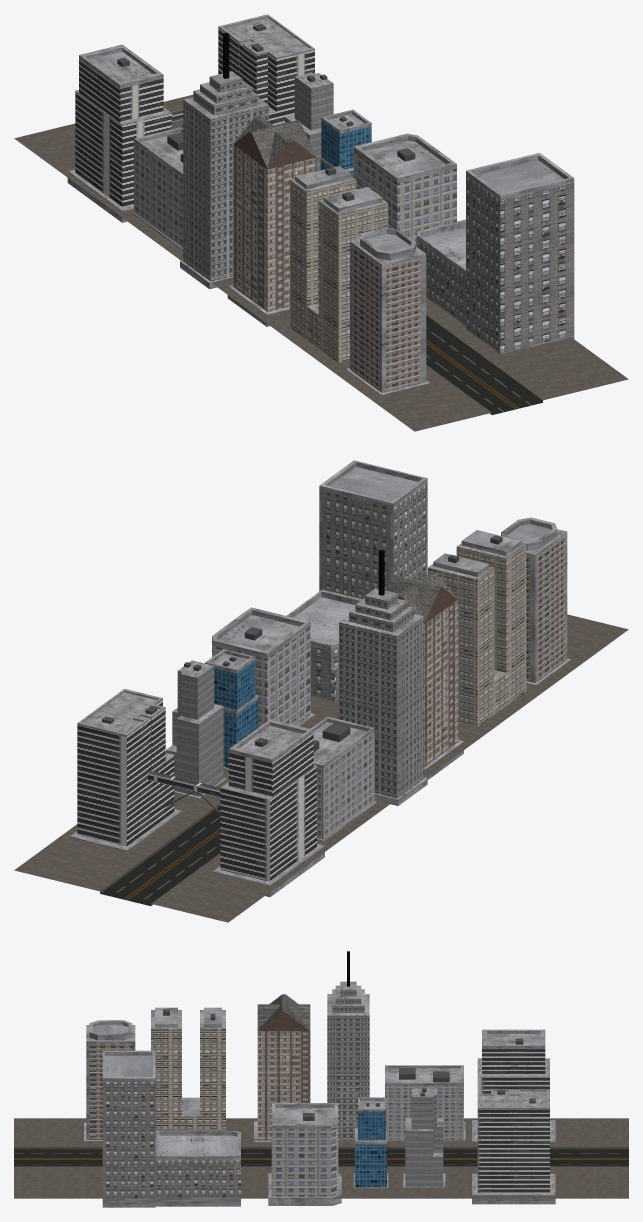
The model's file is building_asset_pack.glb.
3 renders of one model, top to bottom at view 1: azimuth 30°, elevation 25°; view 2: azimuth 150°, elevation 25°; view 3: azimuth 270°, elevation 25°, orthographic. The views are drawn at different scales.
Parts seen in each view (by area): view 1: TexturesCom_HighRiseResidential0099_1_seamless_S, Plane, TexturesCom_BuildingsHighRise0495_1_seamless_S, TexturesCom_BuildingsHighRise0494_1_seamless_S, TexturesCom_HighRiseResidential0098_1_seamless_S, TexturesCom_HighRiseResidential0101_1_seamless_S, TexturesCom_BuildingsHighRise0639_5_seamless_S, TexturesCom_HighRiseResidential0097_1_seamless_S, TexturesCom_HighRiseResidential0097_1_seamless_S.001, TexturesCom_HighRiseGlass0109_2_seamless_S, 0005-glass-building-skyscraper-texture-seamless-hr; view 2: TexturesCom_BuildingsHighRise0495_1_seamless_S, Plane, TexturesCom_HighRiseResidential0099_1_seamless_S, TexturesCom_BuildingsHighRise0639_5_seamless_S, TexturesCom_BuildingsHighRise0494_1_seamless_S, TexturesCom_HighRiseResidential0097_1_seamless_S, TexturesCom_HighRiseResidential0101_1_seamless_S, TexturesCom_HighRiseResidential0098_1_seamless_S, TexturesCom_HighRiseResidential0097_1_seamless_S.001, TexturesCom_HighRiseGlass0109_2_seamless_S, 0005-glass-building-skyscraper-texture-seamless-hr; view 3: Plane, TexturesCom_HighRiseResidential0099_1_seamless_S, TexturesCom_BuildingsHighRise0495_1_seamless_S, TexturesCom_BuildingsHighRise0494_1_seamless_S, TexturesCom_HighRiseResidential0097_1_seamless_S, TexturesCom_HighRiseResidential0101_1_seamless_S, TexturesCom_BuildingsHighRise0639_5_seamless_S, TexturesCom_HighRiseResidential0097_1_seamless_S.001, TexturesCom_HighRiseGlass0109_2_seamless_S, TexturesCom_HighRiseResidential0098_1_seamless_S, 0005-glass-building-skyscraper-texture-seamless-hr.
Boxes of the visible parts, <box> form: TexturesCom_HighRiseResidential0099_1_seamless_S: <box>416,152,574,354</box>; Plane: <box>14,95,628,431</box>; TexturesCom_BuildingsHighRise0495_1_seamless_S: <box>67,14,314,222</box>; TexturesCom_BuildingsHighRise0494_1_seamless_S: <box>290,166,388,362</box>; TexturesCom_HighRiseResidential0098_1_seamless_S: <box>346,227,429,395</box>; TexturesCom_HighRiseResidential0101_1_seamless_S: <box>227,116,316,326</box>; TexturesCom_BuildingsHighRise0639_5_seamless_S: <box>180,33,268,289</box>; TexturesCom_HighRiseResidential0097_1_seamless_S: <box>353,133,456,246</box>; TexturesCom_HighRiseResidential0097_1_seamless_S.001: <box>131,127,183,250</box>; TexturesCom_HighRiseGlass0109_2_seamless_S: <box>285,72,333,171</box>; 0005-glass-building-skyscraper-texture-seamless-hr: <box>320,109,371,177</box>; TexturesCom_BuildingsHighRise0495_1_seamless_S: <box>69,689,324,897</box>; Plane: <box>14,614,628,922</box>; TexturesCom_HighRiseResidential0099_1_seamless_S: <box>286,460,427,701</box>; TexturesCom_BuildingsHighRise0639_5_seamless_S: <box>339,549,427,805</box>; TexturesCom_BuildingsHighRise0494_1_seamless_S: <box>428,530,526,726</box>; TexturesCom_HighRiseResidential0097_1_seamless_S: <box>212,607,315,727</box>; TexturesCom_HighRiseResidential0101_1_seamless_S: <box>386,571,463,779</box>; TexturesCom_HighRiseResidential0098_1_seamless_S: <box>501,517,571,685</box>; TexturesCom_HighRiseResidential0097_1_seamless_S.001: <box>311,716,376,841</box>; TexturesCom_HighRiseGlass0109_2_seamless_S: <box>166,660,226,798</box>; 0005-glass-building-skyscraper-texture-seamless-hr: <box>205,649,257,769</box>; Plane: <box>14,1118,628,1198</box>; TexturesCom_HighRiseResidential0099_1_seamless_S: <box>102,1050,240,1207</box>; TexturesCom_BuildingsHighRise0495_1_seamless_S: <box>472,1029,555,1204</box>; TexturesCom_BuildingsHighRise0494_1_seamless_S: <box>151,1007,225,1130</box>; TexturesCom_HighRiseResidential0097_1_seamless_S: <box>268,1103,341,1205</box>; TexturesCom_HighRiseResidential0101_1_seamless_S: <box>254,994,310,1142</box>; TexturesCom_BuildingsHighRise0639_5_seamless_S: <box>327,951,369,1141</box>; TexturesCom_HighRiseResidential0097_1_seamless_S.001: <box>385,1065,465,1141</box>; TexturesCom_HighRiseGlass0109_2_seamless_S: <box>403,1087,445,1187</box>; TexturesCom_HighRiseResidential0098_1_seamless_S: <box>84,1020,135,1141</box>; 0005-glass-building-skyscraper-texture-seamless-hr: <box>353,1097,388,1188</box>.
Size of the model in its own units: 6.66 by 7.05 by 21.07.
17 materials, 15 textured.
